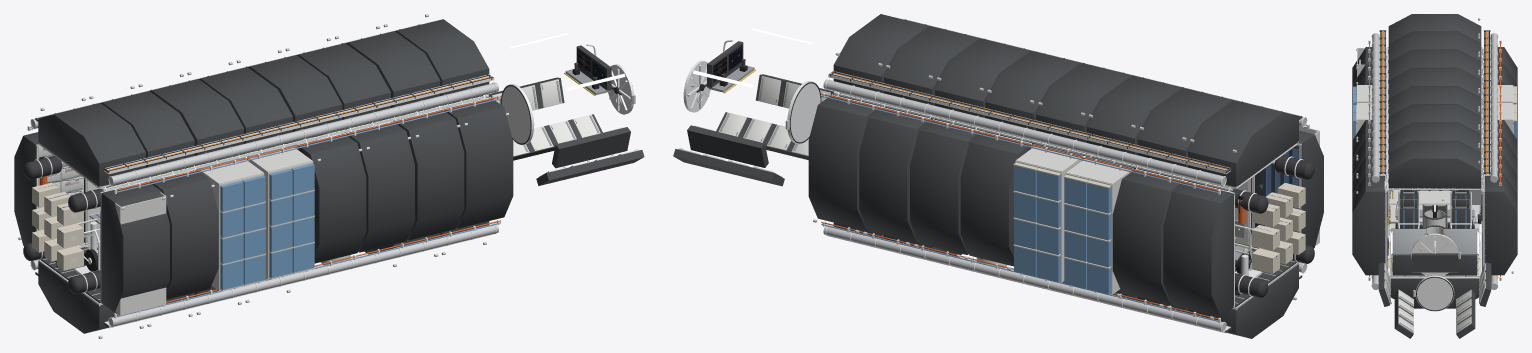
Rendered from alcion_hx4_interior.glb.
The picture shows the model from 3 angles, left to right: view 1: azimuth 30°, elevation 25°; view 2: azimuth 150°, elevation 25°; view 3: azimuth 270°, elevation 25°; orthographic projection. The views are drawn at different scales.
Parts seen in each view (by area): view 1: HAB.INT.D.SH.BDY, HAB.INT.B.SE1.BDY, HAB.INT.A.S2.BDY, HAB.INT.A.SW.BDY, HAB.INT.B.SE2.BDY, HAB.INT.D.SO.BDY, HAB.INT.D.CL2.BDY, HAB.INT.C.CQ3.WTR, HAB.INT.C.CQ4.WTR, HAB.UTL.C2.DCT, FWD.INT.STW.BCK, HAB.UTL.C4.DCT (+28 smaller); view 2: HAB.INT.D.PS.BDY, HAB.INT.B.PF.BDY, HAB.INT.D.PG.BDY, HAB.INT.A.PW.BDY, HAB.INT.A.P2.BDY, HAB.INT.B.PG.BDY, HAB.INT.D.CL2.BDY, HAB.INT.C.CQ1.WTR, HAB.INT.C.CQ2.WTR, HAB.UTL.C1.DCT, FWD.INT.STW.BCK, HAB.UTL.C3.DCT (+30 smaller); view 3: HAB.INT.A.CL1.BDY, HAB.INT.A.PW.BDY, HAB.INT.A.SW.BDY, HAB.INT.C.CE2.BDY, HAB.INT.B.CL2.BDY, HAB.INT.D.CL1.BDY, HAB.INT.C.CE1.BDY, HAB.INT.B.CL1.BDY, HAB.INT.A.CL2.BDY, HAB.INT.D.CL2.BDY, FWD.INT.STW.BCK, HAB.UTL.C1.DCT (+42 smaller).
Boxes of the visible parts, box(x1,y1,x2,y2) form: HAB.INT.D.SH.BDY: box(100, 181, 169, 312); HAB.INT.B.SE1.BDY: box(296, 133, 366, 263); HAB.INT.A.S2.BDY: box(395, 109, 464, 240); HAB.INT.A.SW.BDY: box(443, 97, 513, 228); HAB.INT.B.SE2.BDY: box(345, 121, 414, 252); HAB.INT.D.SO.BDY: box(149, 169, 218, 299); HAB.INT.D.CL2.BDY: box(38, 98, 145, 188); HAB.INT.C.CQ3.WTR: box(220, 175, 265, 291); HAB.INT.C.CQ4.WTR: box(269, 163, 314, 279); HAB.UTL.C2.DCT: box(108, 82, 498, 186); FWD.INT.STW.BCK: box(485, 77, 644, 185); HAB.UTL.C4.DCT: box(108, 223, 498, 327); HAB.INT.D.PS.BDY: box(1163, 181, 1235, 319); HAB.INT.B.PF.BDY: box(960, 131, 1032, 269); HAB.INT.D.PG.BDY: box(1112, 168, 1184, 307); HAB.INT.A.PW.BDY: box(808, 94, 880, 232); HAB.INT.A.P2.BDY: box(859, 106, 931, 245); HAB.INT.B.PG.BDY: box(910, 119, 981, 257); HAB.INT.D.CL2.BDY: box(1188, 100, 1299, 189); HAB.INT.C.CQ1.WTR: box(1064, 174, 1111, 294); HAB.INT.C.CQ2.WTR: box(1013, 162, 1060, 281); HAB.UTL.C1.DCT: box(823, 79, 1226, 186); FWD.INT.STW.BCK: box(673, 74, 837, 186); HAB.UTL.C3.DCT: box(823, 225, 1226, 332); HAB.INT.A.CL1.BDY: box(1388, 141, 1481, 189); HAB.INT.A.PW.BDY: box(1483, 174, 1517, 275); HAB.INT.A.SW.BDY: box(1352, 174, 1386, 275); HAB.INT.C.CE2.BDY: box(1388, 68, 1481, 98); HAB.INT.B.CL2.BDY: box(1388, 105, 1481, 134); HAB.INT.D.CL1.BDY: box(1388, 32, 1481, 62); HAB.INT.C.CE1.BDY: box(1388, 50, 1481, 80); HAB.INT.B.CL1.BDY: box(1388, 86, 1481, 116); HAB.INT.A.CL2.BDY: box(1388, 123, 1481, 153); HAB.INT.D.CL2.BDY: box(1388, 14, 1481, 43); FWD.INT.STW.BCK: box(1378, 262, 1491, 338); HAB.UTL.C1.DCT: box(1490, 33, 1498, 182).
Size of the model in its own units: 12.01 by 4.02 by 3.94.
Materials: 43 (5 with a texture image).
